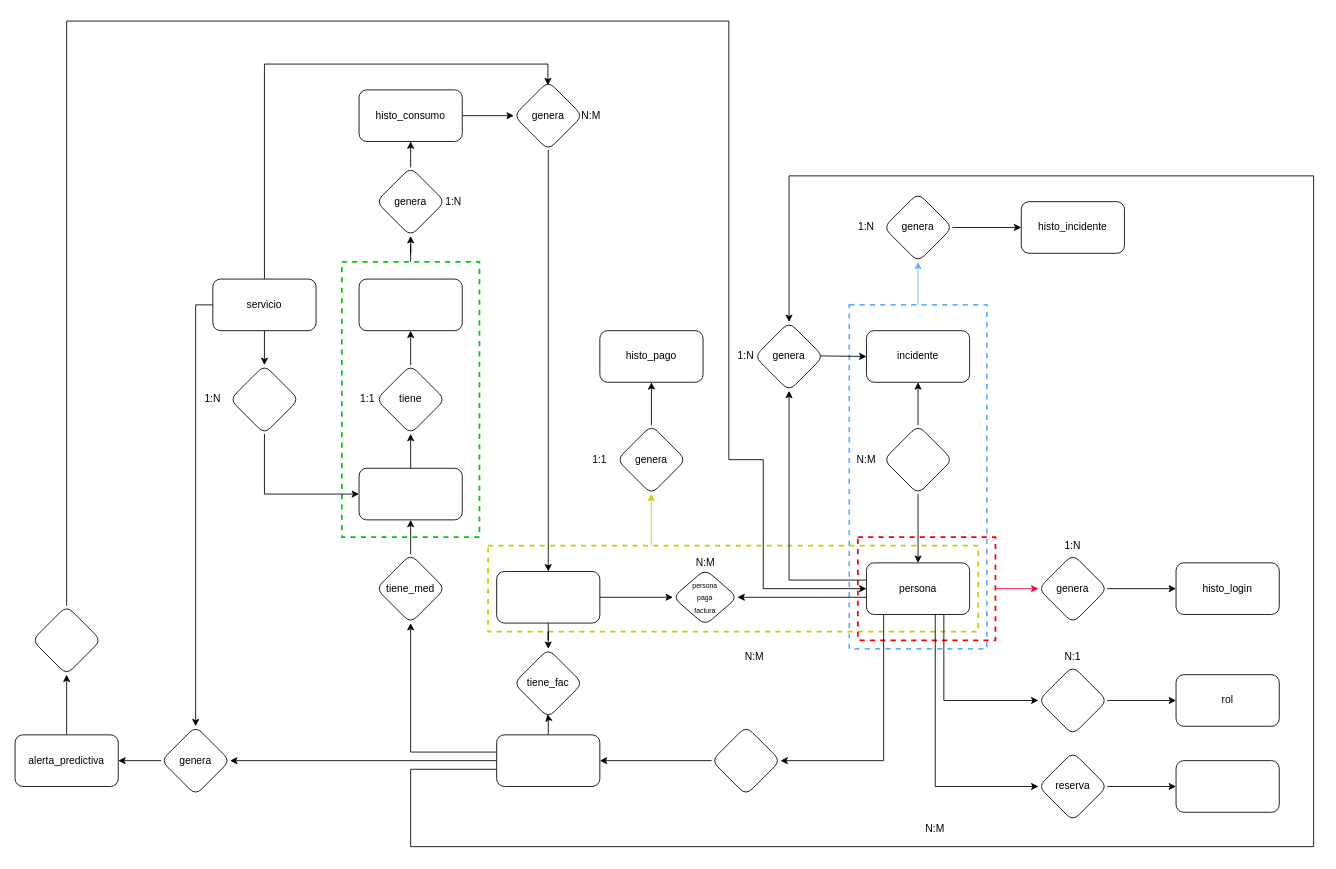
Image size: 1336x869. Some labels were removed from this diagram. The box of each missing label's shape, as (x1, y1, x2, y2) in pixels:
area_comun: (1175, 760, 1279, 812)
departamento: (496, 734, 600, 786)
factura: (496, 571, 600, 623)
incidente asignado: (883, 424, 952, 494)
lector_sensor: (358, 278, 462, 331)
medidor: (358, 467, 462, 520)
notifica persona: (31, 605, 101, 675)
pertene: (229, 364, 299, 434)
tiene_dep: (711, 725, 780, 795)
tiene_rol: (1038, 665, 1107, 735)
